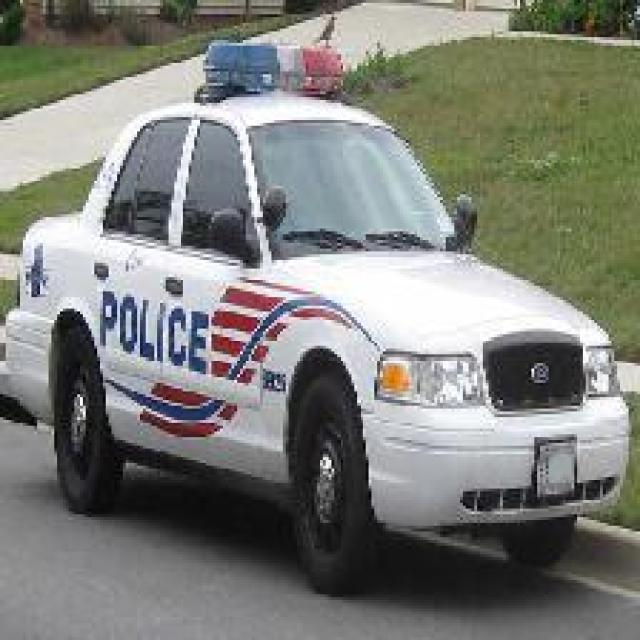Police-car: (0, 34, 631, 594)
